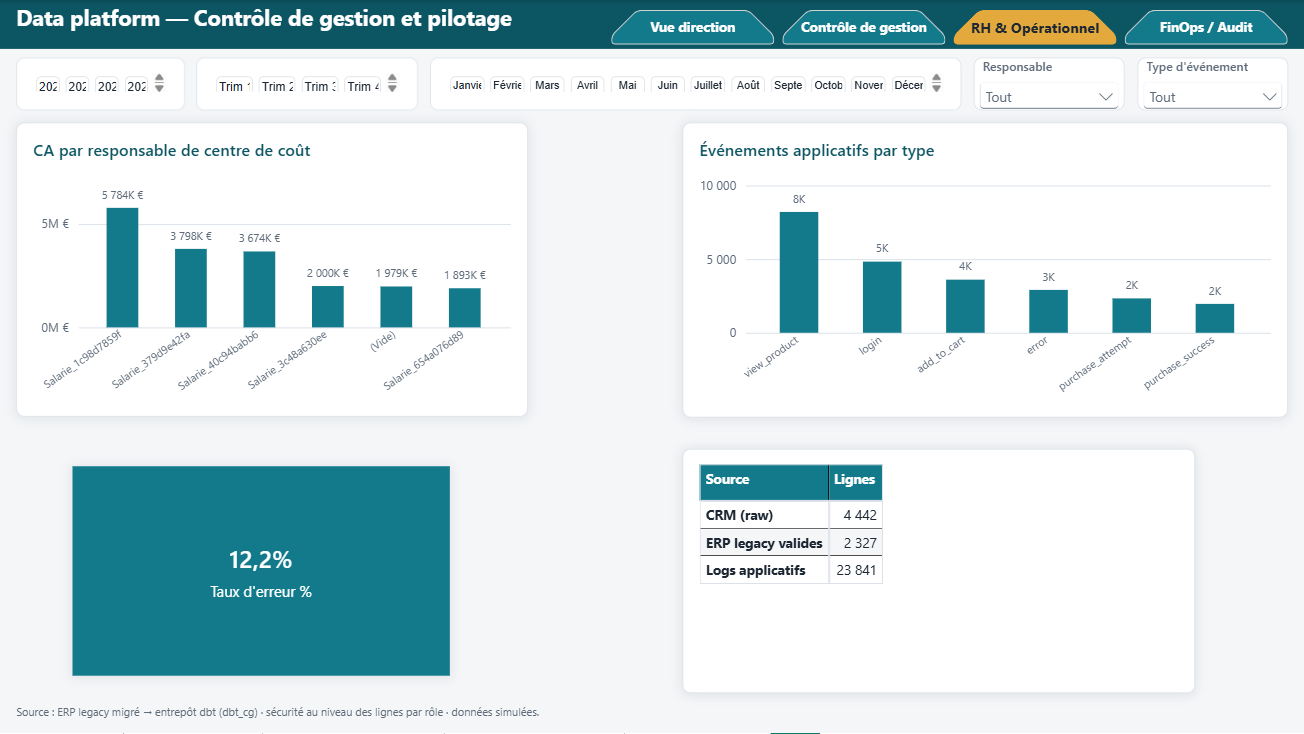

The dashboard page shown, as its layout file describes it:
{"tool":"powerbi","page":{"name":"RH & Opérationnel","canvas":[1280,720],"ordinal":2},"visuals":[{"type":"shape","box":[0,0,1280,48],"z":0},{"type":"textbox","box":[16,2,570,46],"z":100},{"type":"pageNavigator","box":[600,10,664,34],"z":200},{"type":"ChicletSlicer1448559807354","fields":{"Category":["Dim Date.Calendrier.Année"],"Values":["Min(Dim Date.date)"]},"box":[16,56,165.2,52],"z":1003},{"type":"ChicletSlicer1448559807354","fields":{"Category":["Dim Date.Calendrier.Trimestre"]},"box":[193.2,56,217.4,52],"z":1004},{"type":"ChicletSlicer1448559807354","fields":{"Category":["Dim Date.Calendrier.Mois"]},"box":[422.6,56,521.7,52],"z":1005},{"type":"slicer","fields":{"Values":["Dim Centre de coût.responsable"]},"box":[956.3,56,147.8,52],"z":1006},{"type":"slicer","fields":{"Values":["Fct Logs Applicatifs.type_evenement"]},"box":[1116.2,56,147.8,52],"z":1007},{"type":"textbox","box":[16,688,1248,30],"z":1200},{"type":"clusteredColumnChart","title":"CA par responsable de centre de coût","fields":{"Category":["Dim Centre de coût.responsable"],"Y":["Fct Ventes Réel.CA Réel"]},"box":[16,120.2,502.4,288.9],"z":5008},{"type":"card","fields":{"Values":["Fct Logs Applicatifs.Taux d'erreur %"]},"box":[70.9,457.1,370.2,205.9],"z":5009},{"type":"pivotTable","fields":{"Rows":["Volumétrie Pipeline.Source"],"Values":["Volumétrie Pipeline.Lignes"]},"box":[669.6,440.2,502.9,239.8],"z":5010},{"type":"clusteredColumnChart","title":"Événements applicatifs par type","fields":{"Category":["Fct Logs Applicatifs.type_evenement"],"Y":["Fct Logs Applicatifs.Nb événements"]},"box":[669.6,120,594.4,289.2],"z":5011}]}

Visuals, with their boxes in screenshot pixels (x1, y1, x2, y2), scaled from the page's 1280x720 canvas onto the 1304x734 screenshot:
shape: <region>0, 0, 1303, 49</region>
textbox: <region>16, 2, 597, 49</region>
pageNavigator: <region>611, 10, 1288, 45</region>
ChicletSlicer1448559807354 - Dim Date.Calendrier.Année x Min(Dim Date.date): <region>16, 57, 185, 110</region>
ChicletSlicer1448559807354 - Dim Date.Calendrier.Trimestre: <region>197, 57, 418, 110</region>
ChicletSlicer1448559807354 - Dim Date.Calendrier.Mois: <region>431, 57, 962, 110</region>
slicer - Dim Centre de coût.responsable: <region>974, 57, 1125, 110</region>
slicer - Fct Logs Applicatifs.type_evenement: <region>1137, 57, 1288, 110</region>
textbox: <region>16, 701, 1288, 732</region>
"CA par responsable de centre de coût" clusteredColumnChart: <region>16, 123, 528, 417</region>
card - Fct Logs Applicatifs.Taux d'erreur %: <region>72, 466, 449, 676</region>
pivotTable - Volumétrie Pipeline.Source x Volumétrie Pipeline.Lignes: <region>682, 449, 1194, 693</region>
"Événements applicatifs par type" clusteredColumnChart: <region>682, 122, 1288, 417</region>
